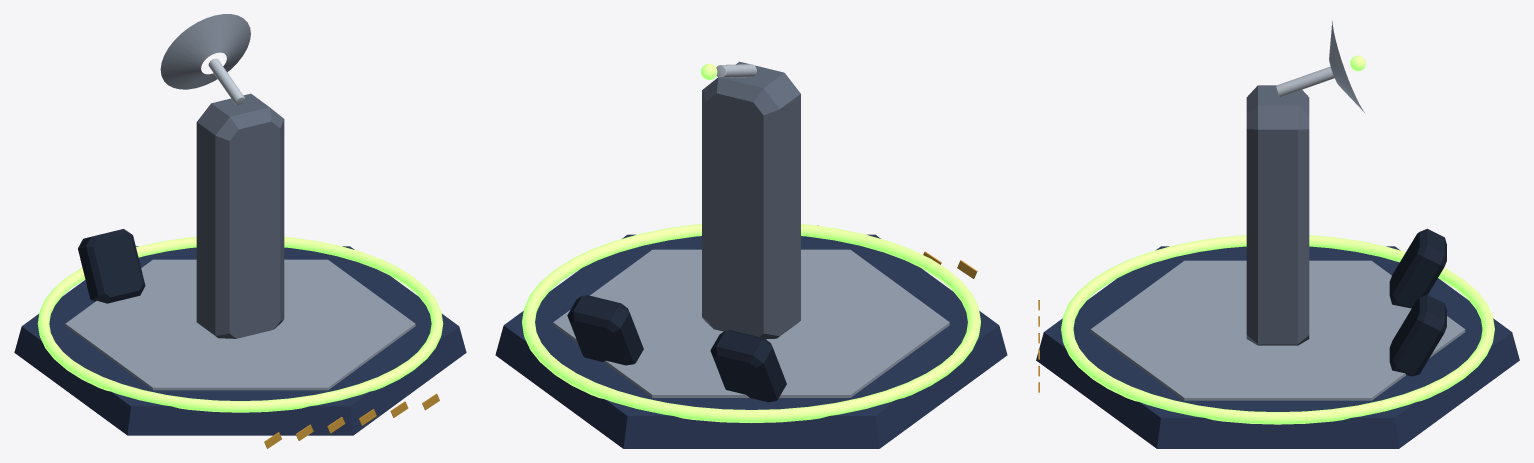
File: shared_controlpoint_held.glb
3 views of the same model, side by side, from view 1: azimuth 30°, elevation 25°; view 2: azimuth 150°, elevation 25°; view 3: azimuth 270°, elevation 25° (orthographic). The views are drawn at different scales.
Parts seen in each view (by area): view 1: cp_pad_inlay, cp_pad, cp_pylon, cp_ring, cp_dish_plate, cp_console-1, cp_hazard, cp_dish_mast; view 2: cp_pad, cp_pad_inlay, cp_pylon, cp_ring, cp_console-1, cp_console1, cp_dish_mast; view 3: cp_pad_inlay, cp_pad, cp_pylon, cp_ring, cp_console1, cp_console-1, cp_dish_mast, cp_dish_plate.
Boxes of the visible parts, left/top/right/bottom form: cp_pad_inlay: left=65, top=259, right=415, bottom=390; cp_pad: left=14, top=246, right=466, bottom=435; cp_pylon: left=196, top=93, right=284, bottom=338; cp_ring: left=37, top=237, right=443, bottom=412; cp_dish_plate: left=160, top=14, right=250, bottom=89; cp_console-1: left=78, top=229, right=145, bottom=303; cp_hazard: left=264, top=393, right=439, bottom=448; cp_dish_mast: left=208, top=58, right=245, bottom=105; cp_pad: left=495, top=234, right=1007, bottom=448; cp_pad_inlay: left=553, top=249, right=949, bottom=397; cp_pylon: left=702, top=61, right=800, bottom=339; cp_ring: left=522, top=224, right=980, bottom=422; cp_console-1: left=710, top=330, right=786, bottom=402; cp_console1: left=567, top=295, right=643, bottom=365; cp_dish_mast: left=716, top=64, right=756, bottom=78; cp_pad_inlay: left=1090, top=260, right=1465, bottom=400; cp_pad: left=1036, top=246, right=1519, bottom=448; cp_pylon: left=1246, top=85, right=1309, bottom=345; cp_ring: left=1061, top=235, right=1494, bottom=424; cp_console1: left=1389, top=294, right=1446, bottom=376; cp_console-1: left=1389, top=228, right=1446, bottom=308; cp_dish_mast: left=1276, top=66, right=1334, bottom=96; cp_dish_plate: left=1329, top=21, right=1365, bottom=113.
Size of the model in its own units: 2.78 by 2.41 by 3.1.
